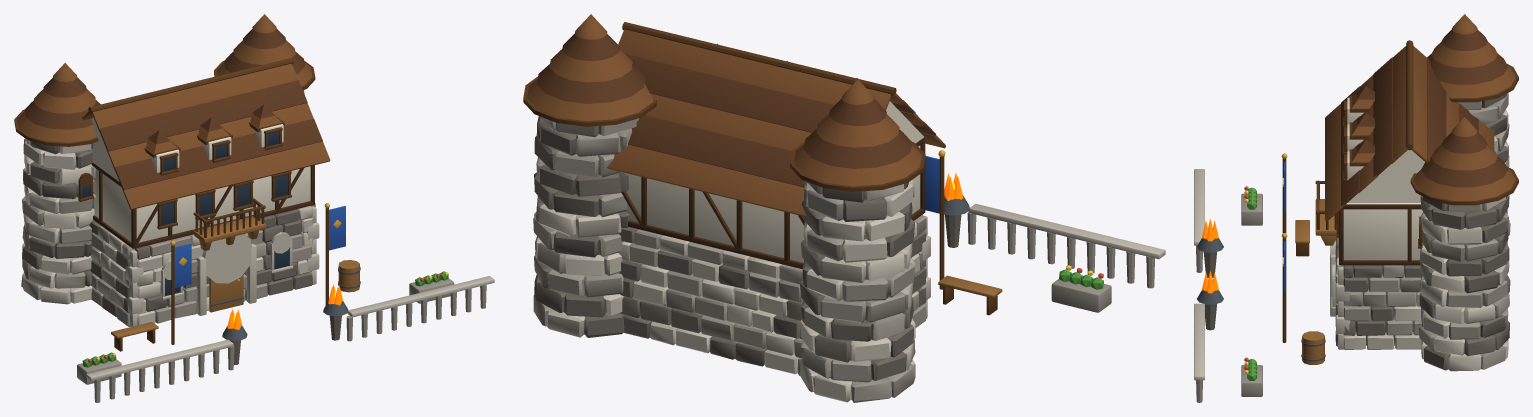
File: budynek_glowny_poz14.glb
3 views of the same model, side by side, from view 1: azimuth 30°, elevation 25°; view 2: azimuth 150°, elevation 25°; view 3: azimuth 270°, elevation 25° (orthographic). The views are drawn at different scales.
Visible parts, largest first — view 1: budynek_glowny_poz14; view 2: budynek_glowny_poz14; view 3: budynek_glowny_poz14.
Boxes of the visible parts, <box> form: budynek_glowny_poz14: <box>14,14,494,402</box>; budynek_glowny_poz14: <box>523,14,1165,402</box>; budynek_glowny_poz14: <box>1194,14,1518,402</box>.
Bounding box in the file's own units: 13.6 × 7.24 × 8.98.
